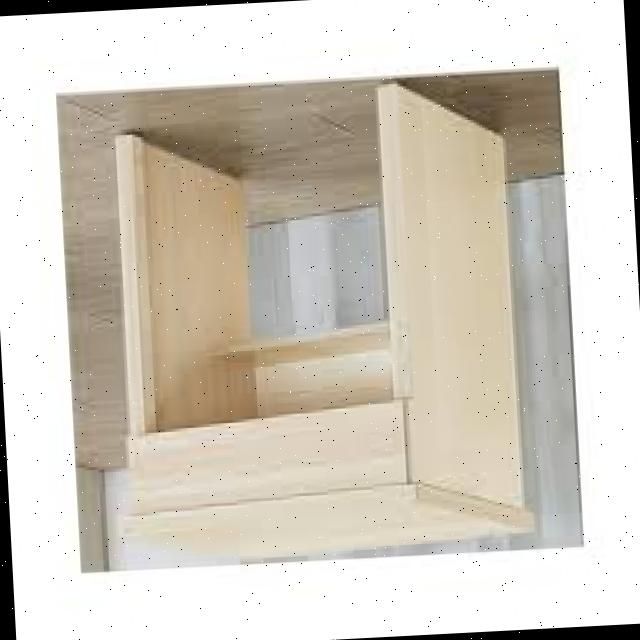Table: (89, 65, 554, 575)
